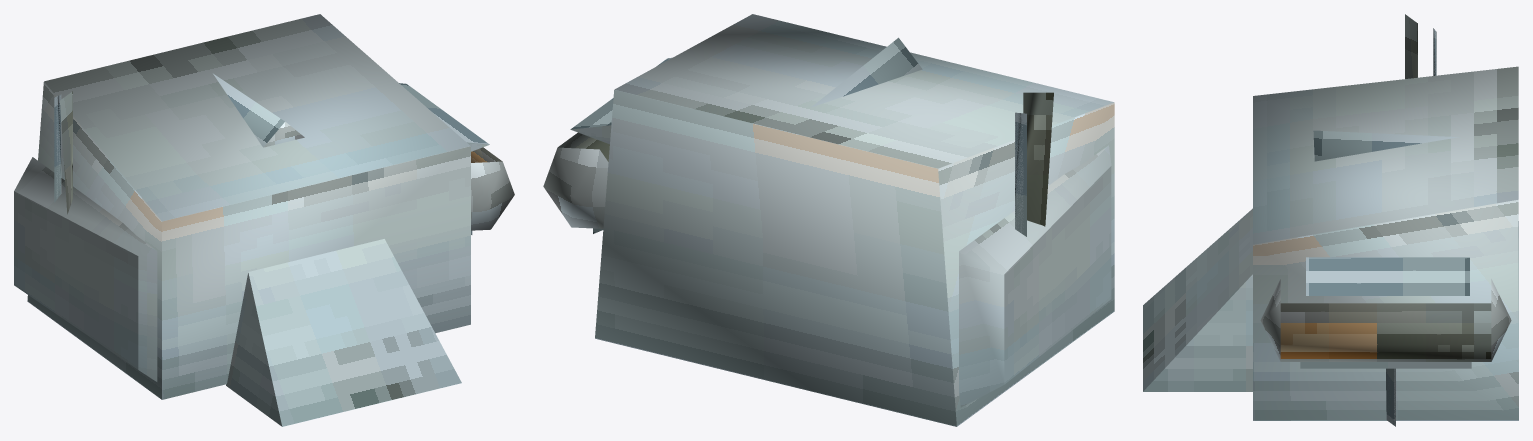
The model's file is eqp_app_substance_analyzer_l2.fbx.
The picture shows the model from 3 angles, left to right: view 1: azimuth 30°, elevation 25°; view 2: azimuth 150°, elevation 25°; view 3: azimuth 270°, elevation 25°; orthographic projection. The views are drawn at different scales.
Parts seen in each view (by area): view 1: mesh_node; view 2: mesh_node; view 3: mesh_node.
Boxes of the visible parts, box(x1,y1,x2,y2) form: mesh_node: box(14, 14, 514, 426); mesh_node: box(543, 14, 1114, 426); mesh_node: box(1143, 14, 1518, 426).
Size of the model in its own units: 0.2571 by 0.1568 by 0.2153.
